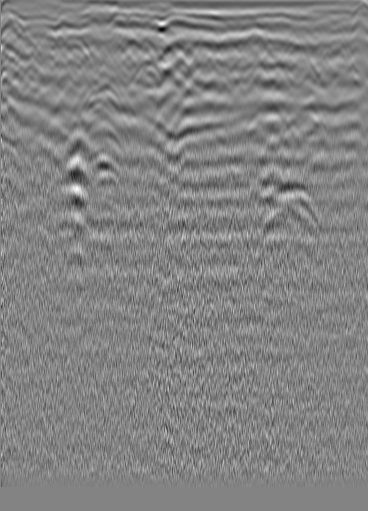가스: (53, 185, 96, 228)
상수: (324, 42, 344, 62)
오수: (24, 44, 44, 64)
우수: (192, 35, 222, 69)
